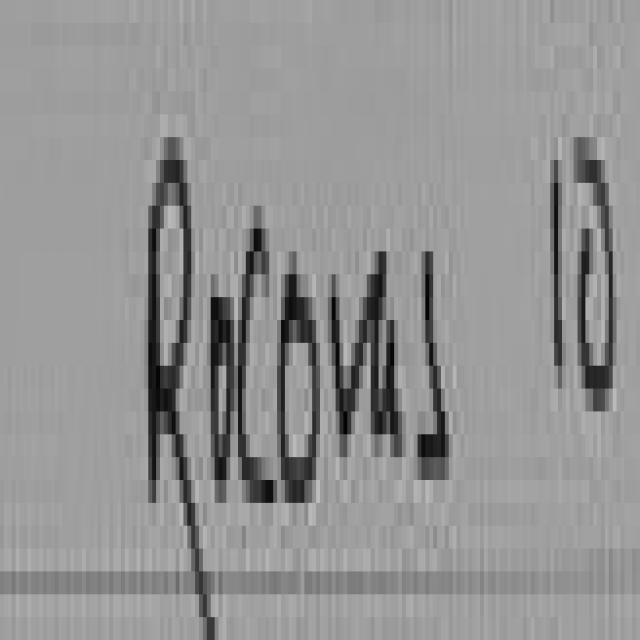0: (580, 137, 617, 411)
4: (553, 160, 566, 383)
R: (148, 137, 215, 640)
a: (370, 241, 402, 460)
c: (237, 229, 277, 503)
o: (276, 274, 320, 503), (211, 297, 234, 503)
s: (421, 251, 449, 480)
v: (332, 297, 371, 457)
